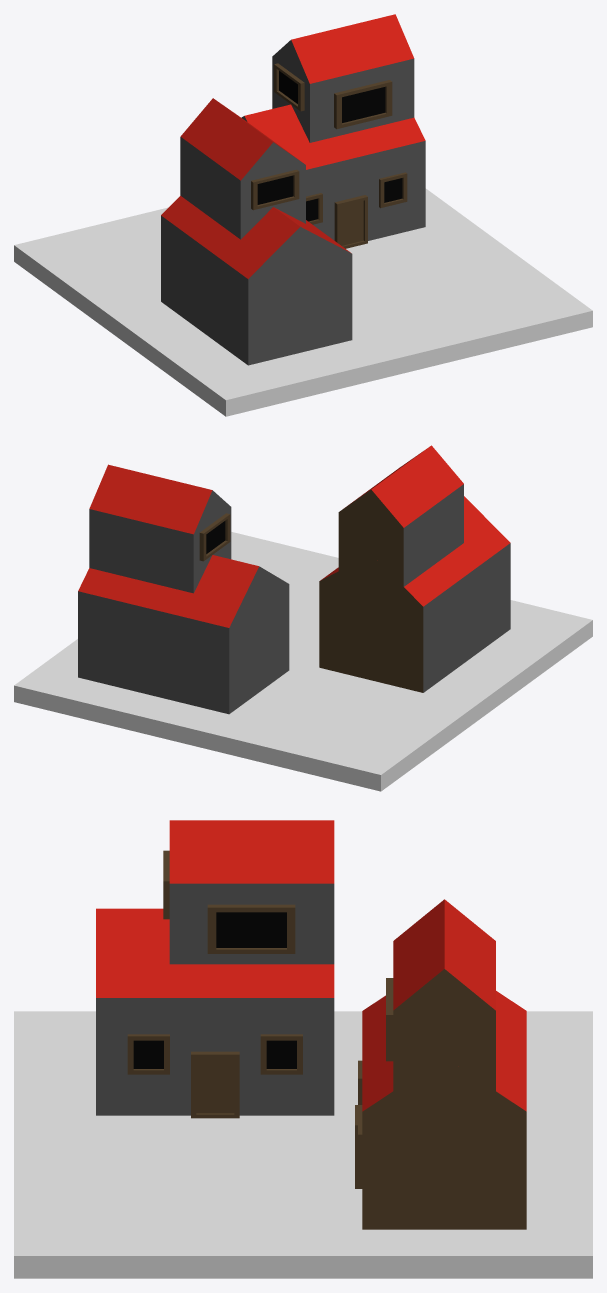
The model's file is WorkerHouseLVL2.fbx.
The picture shows the model from 3 angles, top to bottom: view 1: azimuth 30°, elevation 25°; view 2: azimuth 150°, elevation 25°; view 3: azimuth 270°, elevation 25°; orthographic projection. The views are drawn at different scales.
Parts seen in each view (by area): view 1: Cube, 2-StoryHouse.001, 2-StoryHouse; view 2: Cube, 2-StoryHouse, 2-StoryHouse.001; view 3: Cube, 2-StoryHouse.001, 2-StoryHouse.
Part boxes in pixels (box(x1,y1,x2,y2)): Cube: box(14, 188, 592, 416); 2-StoryHouse.001: box(161, 98, 352, 365); 2-StoryHouse: box(241, 14, 425, 248); Cube: box(14, 532, 592, 791); 2-StoryHouse: box(78, 464, 289, 714); 2-StoryHouse.001: box(319, 445, 510, 692); Cube: box(14, 1011, 592, 1278); 2-StoryHouse.001: box(96, 820, 334, 1118); 2-StoryHouse: box(355, 899, 526, 1229).
Size of the model in its own units: 3438 by 1856 by 3438.
